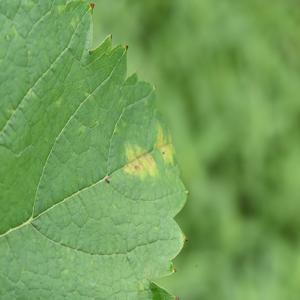Folha: (0, 0, 189, 299)
Fungo: (125, 144, 158, 180), (156, 125, 178, 168), (4, 33, 11, 41), (104, 176, 110, 184), (134, 164, 140, 171), (90, 3, 94, 12), (185, 189, 189, 195), (184, 236, 188, 242), (125, 44, 128, 51), (172, 268, 176, 272), (162, 150, 165, 155), (110, 33, 112, 39)
